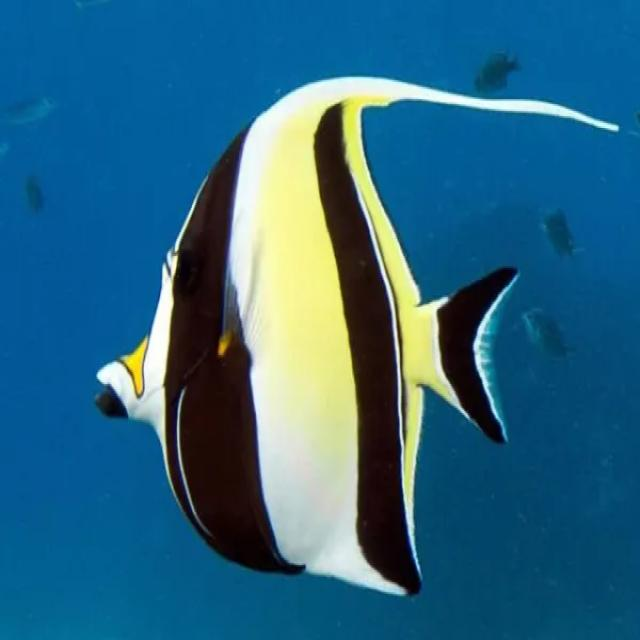MorishIdol: (92, 70, 621, 601)
